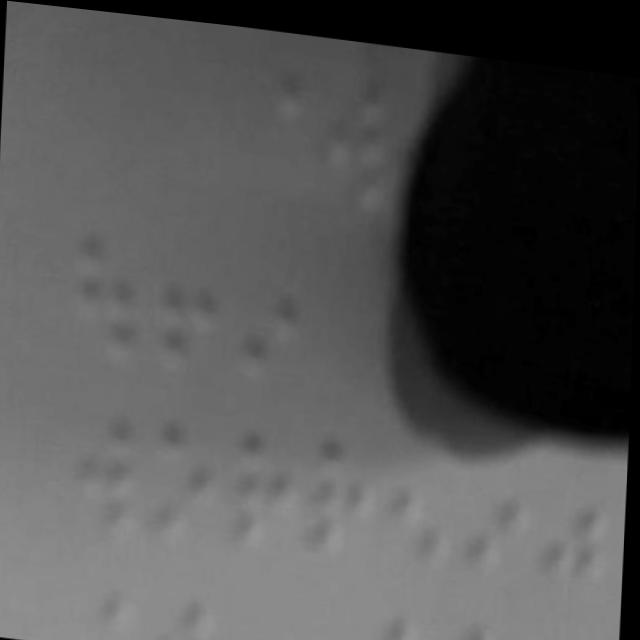braiile: (321, 53, 406, 219), (229, 215, 314, 375), (299, 404, 383, 555), (144, 208, 221, 370), (543, 425, 624, 578), (70, 201, 145, 364), (143, 398, 226, 544), (222, 398, 302, 548), (70, 389, 147, 542), (465, 415, 539, 570), (383, 419, 457, 564)
